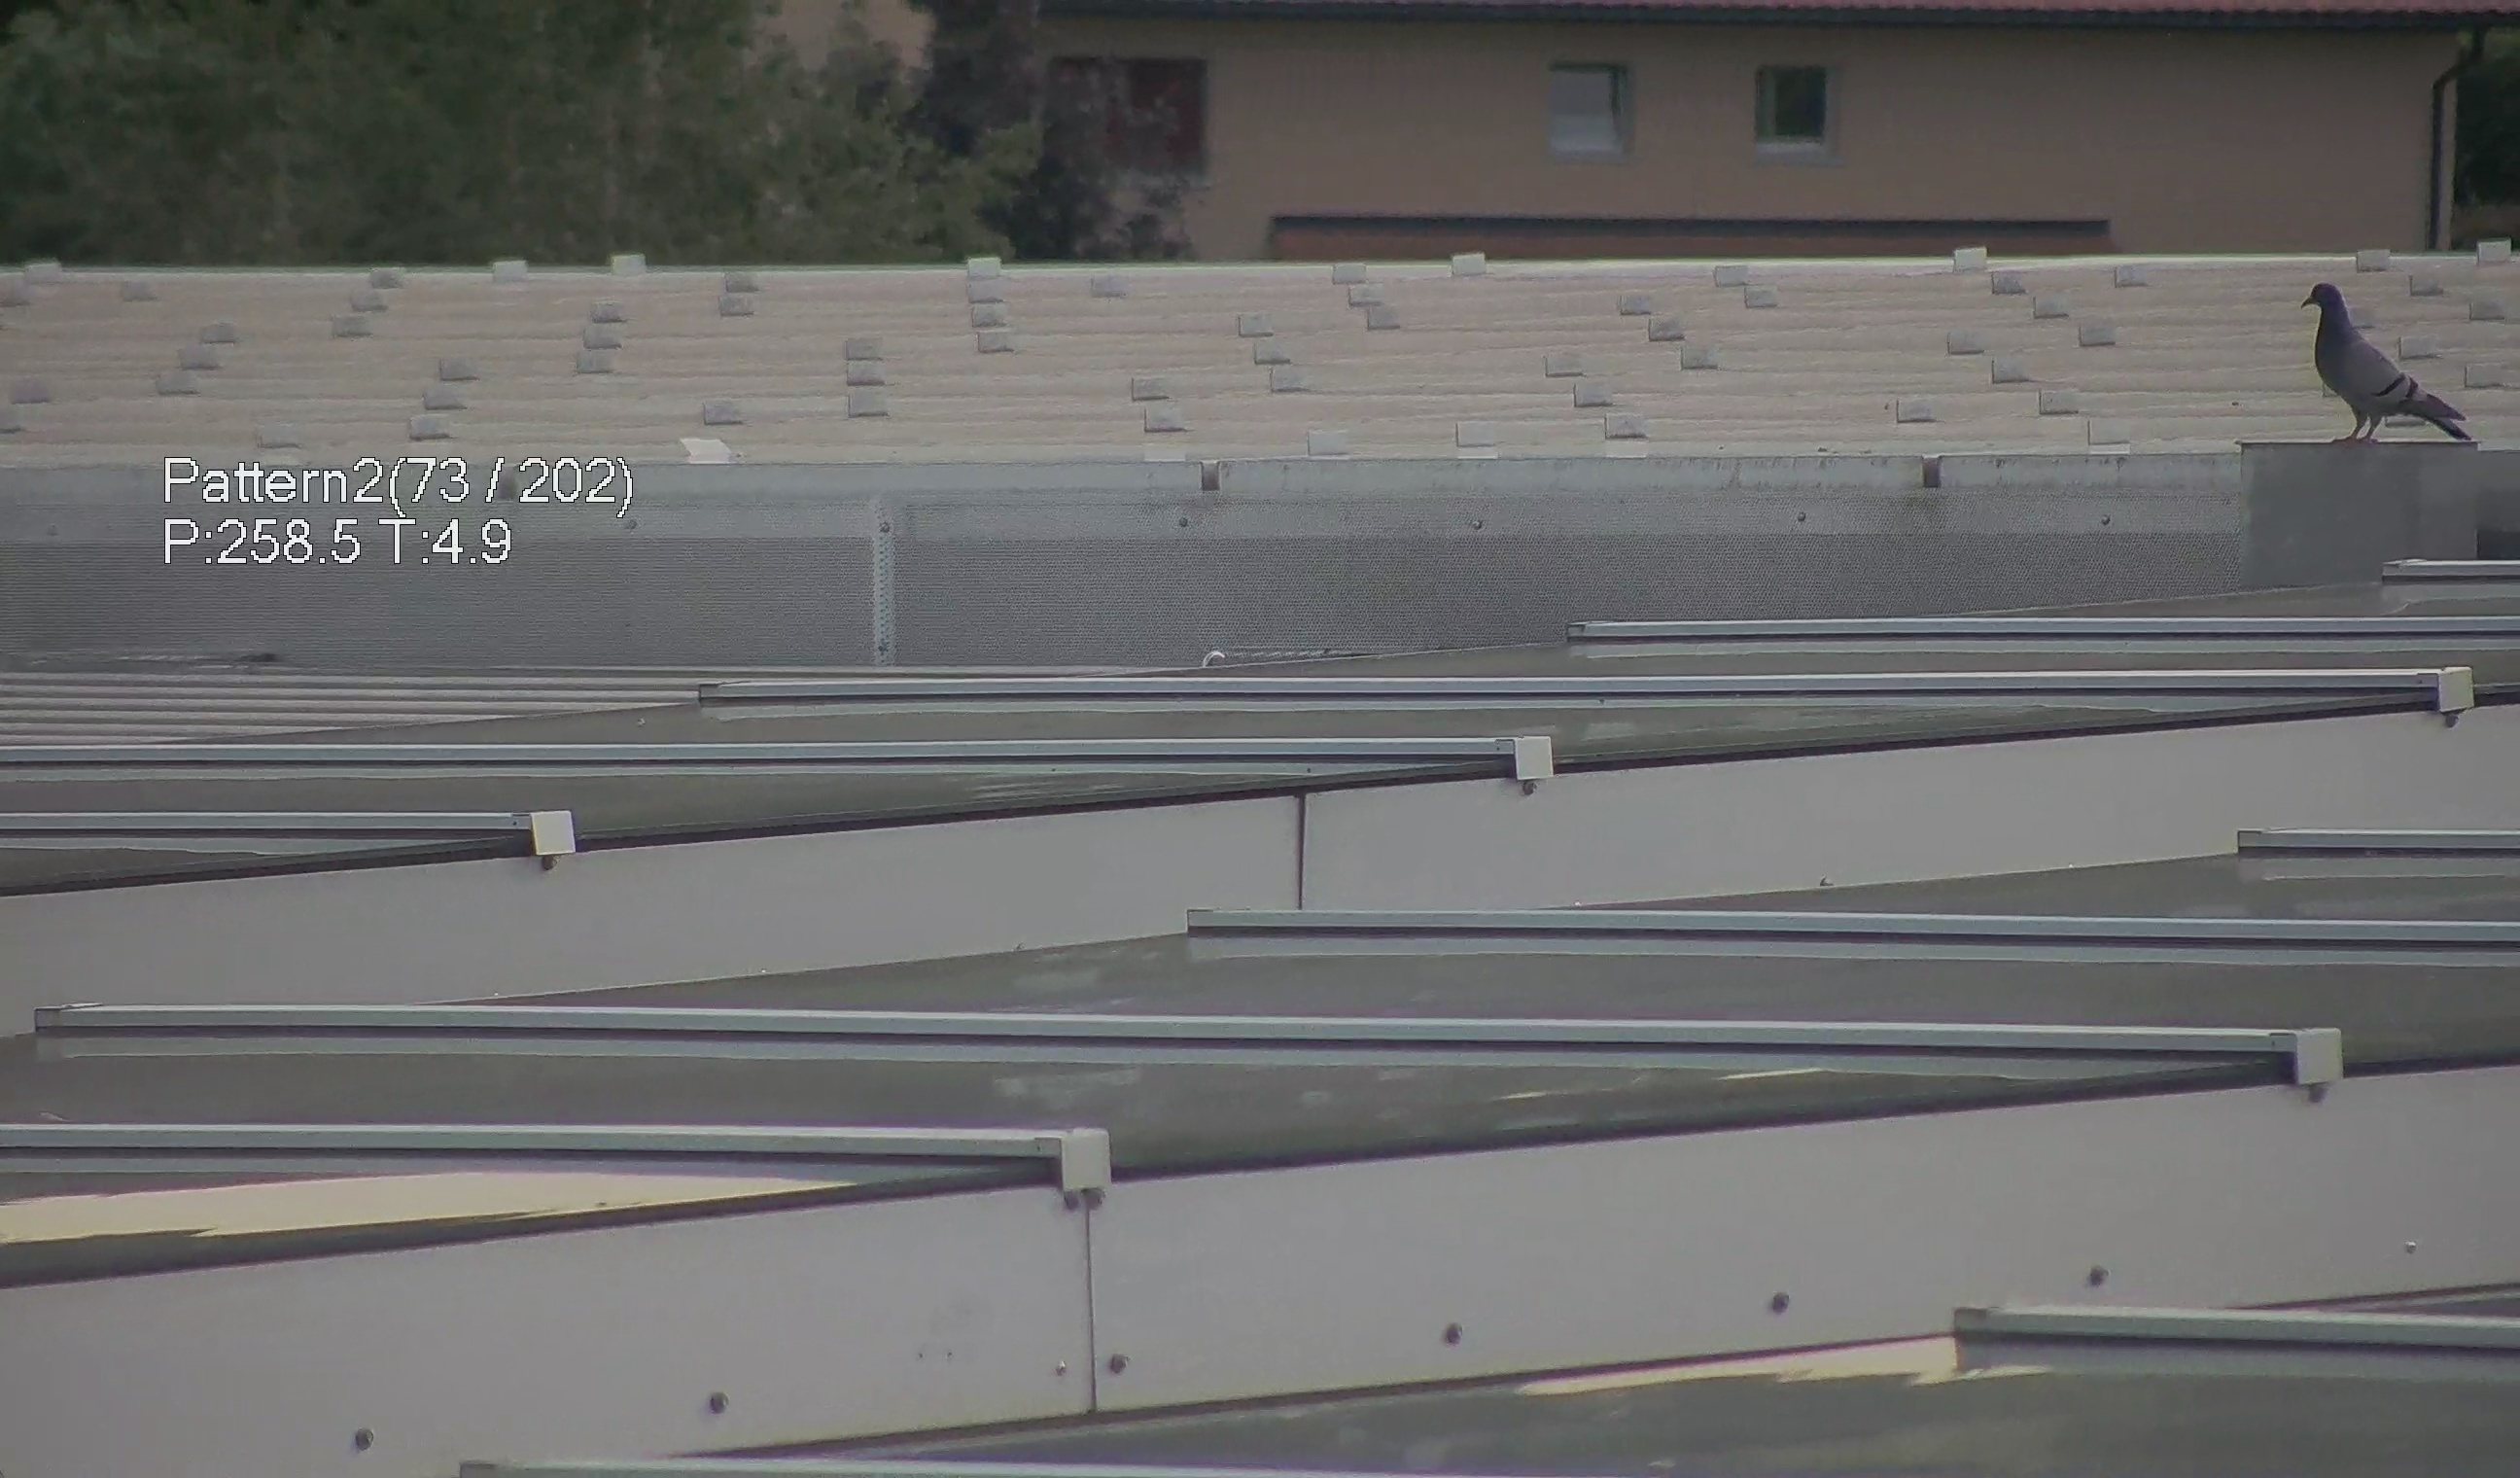Pigeon: (2293, 260, 2483, 450)
